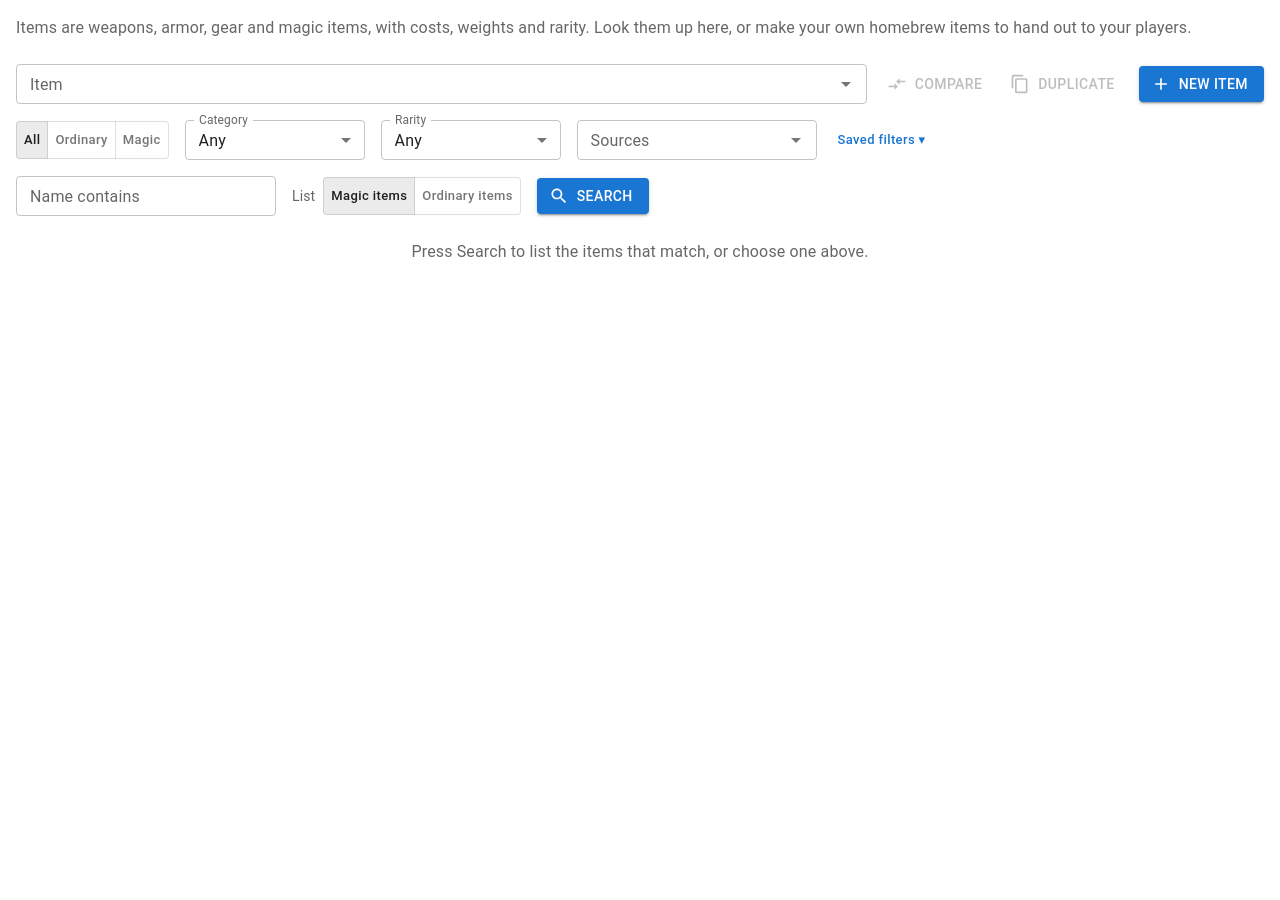
it: comparing items › says when two items have the same description, as the 2014 and 2024 versions often do
Type "rope" into the dropdown labelled "Item" at [425, 84], box [22, 70, 828, 98]
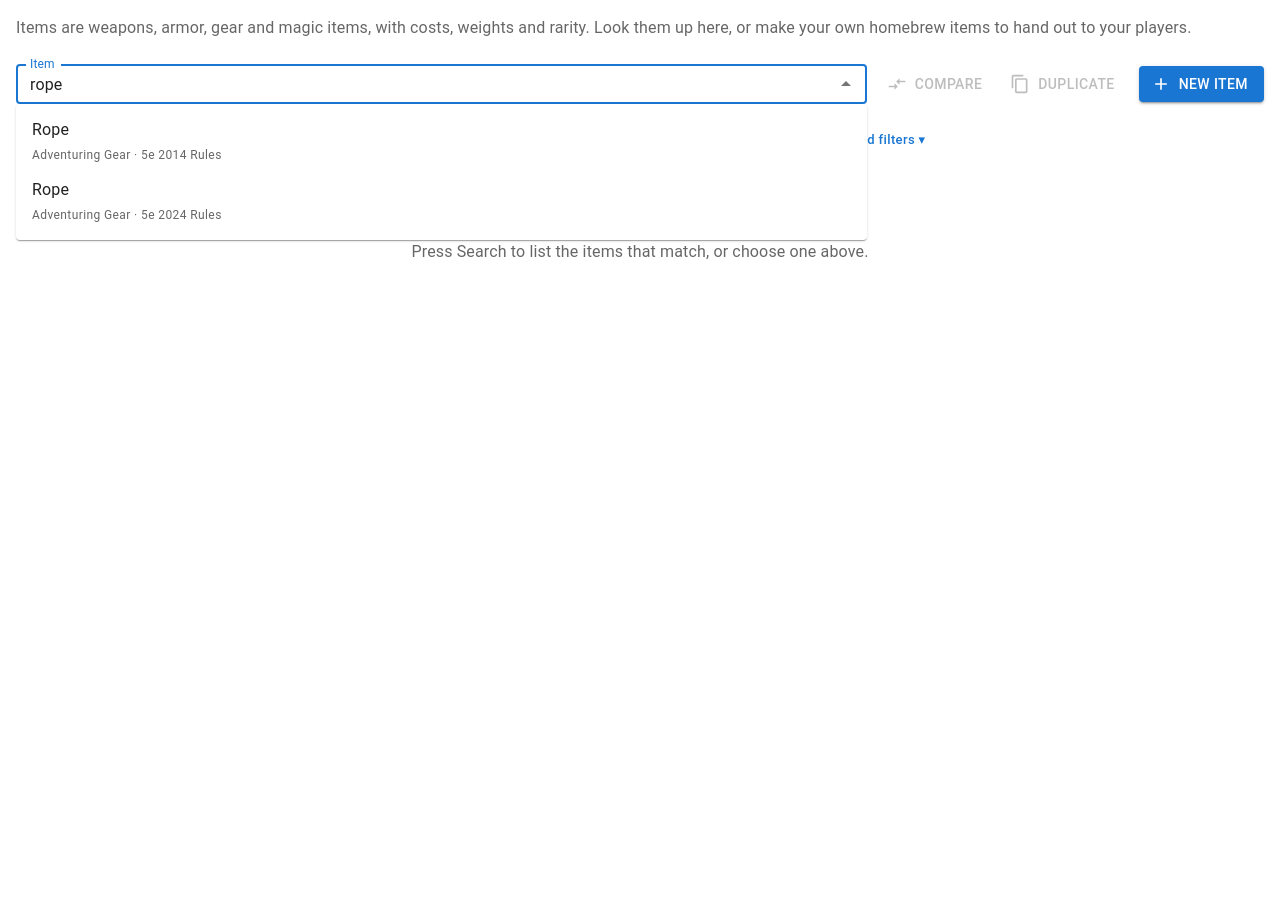
Click the option "Rope Adventuring Gear · 5e 2014 Rules" at [51, 130], box [32, 120, 222, 162]
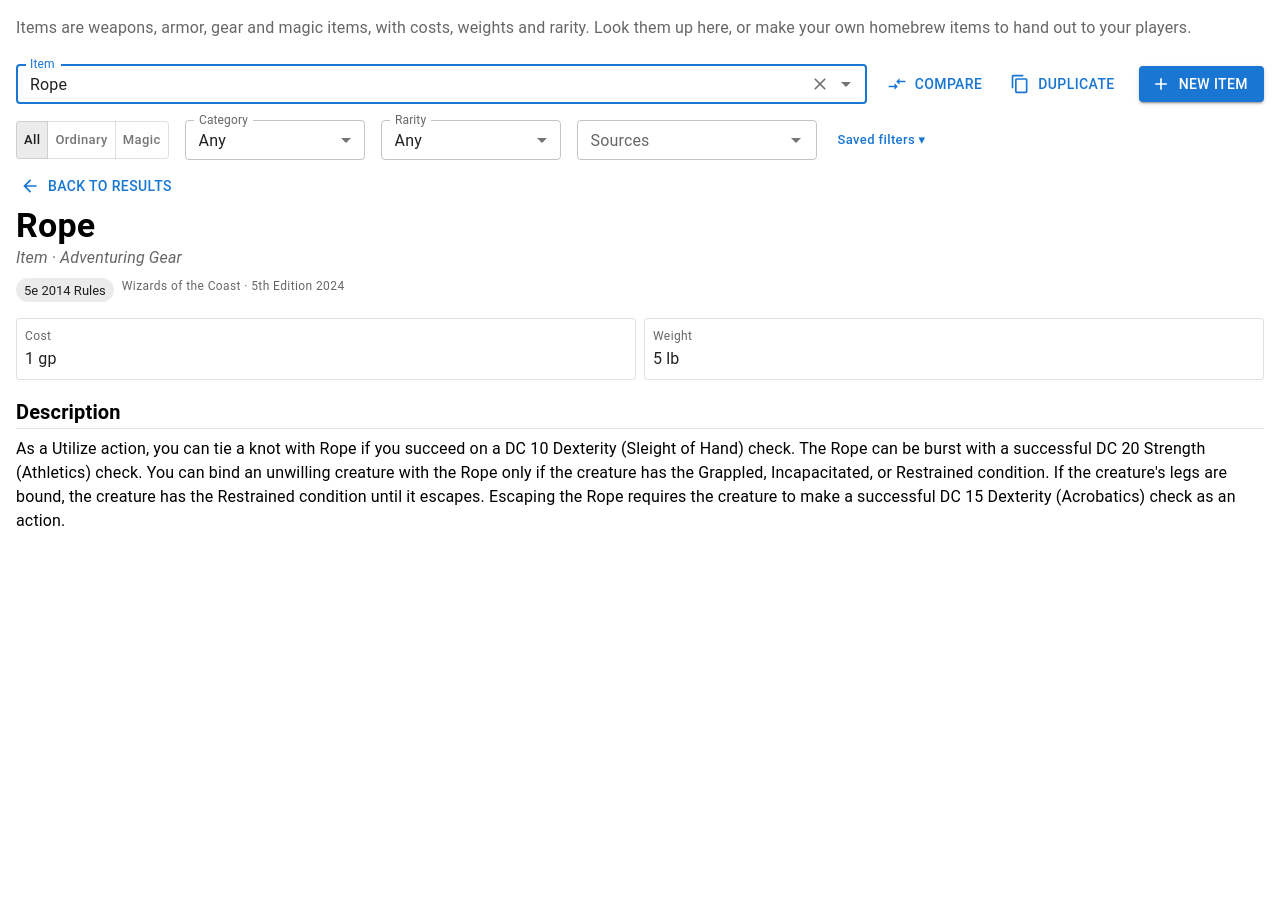
Click the button "Compare" at [936, 84], box [883, 66, 990, 102]
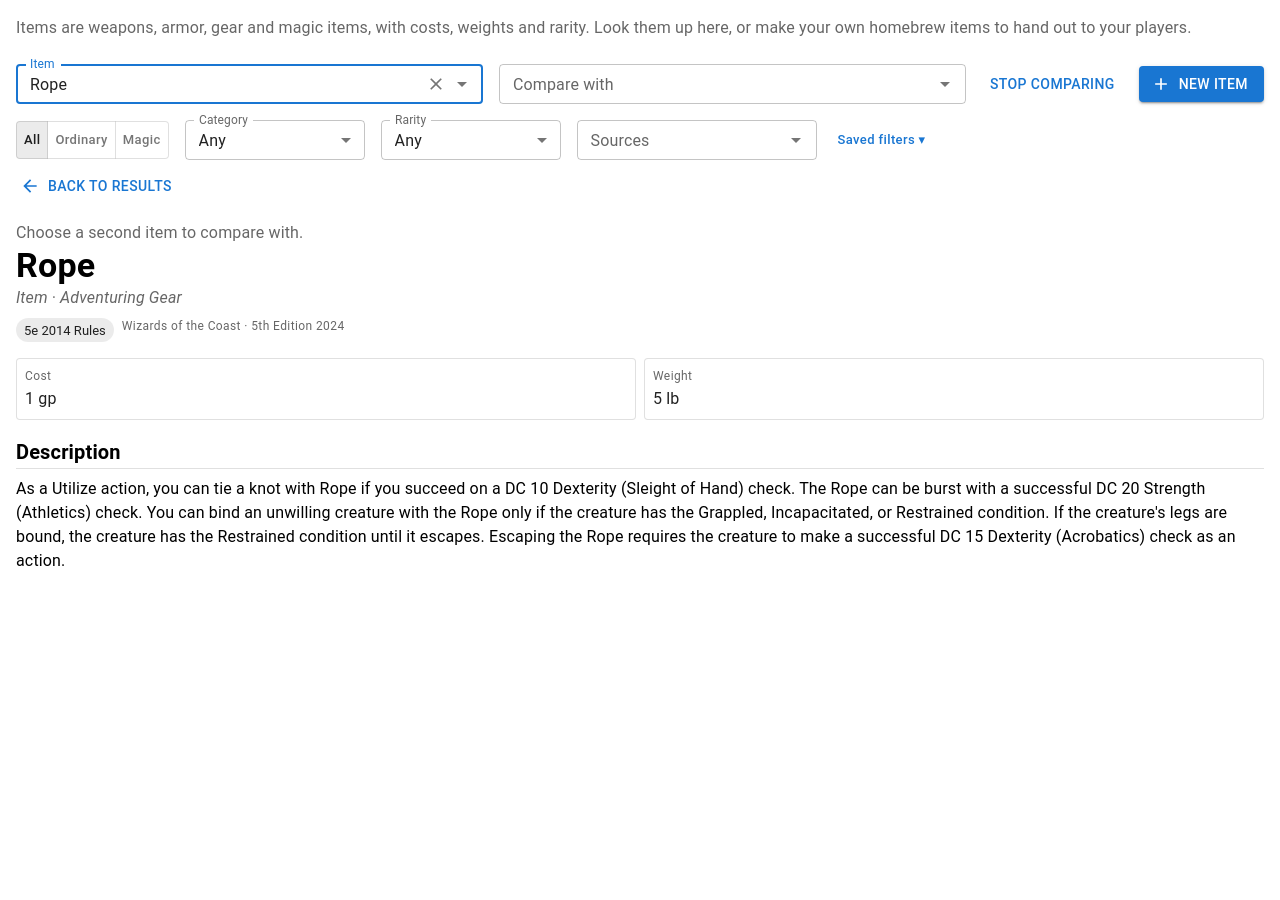
Type "rope" into the dropdown labelled "Compare with" at [716, 84], box [505, 70, 927, 98]
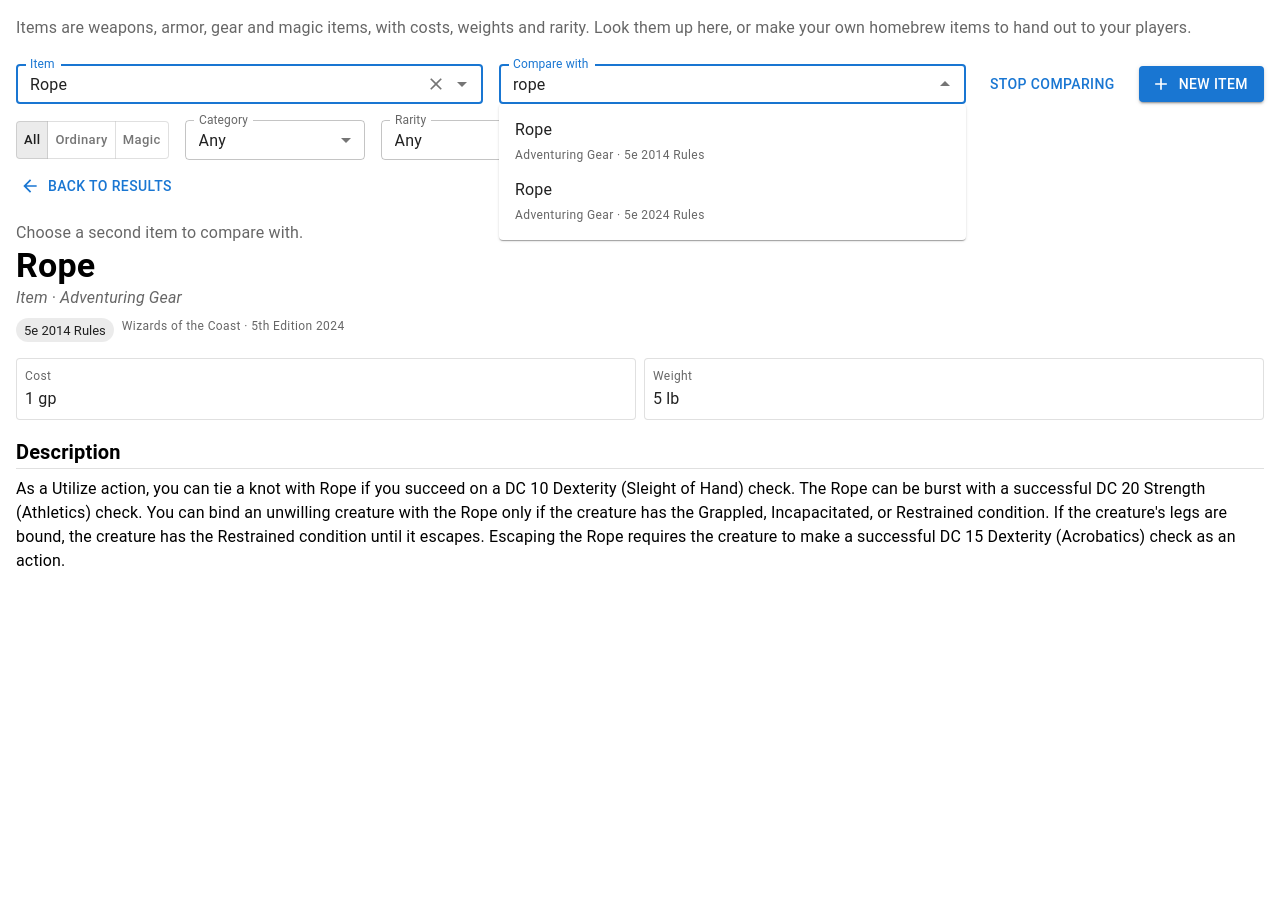
Click the option "Rope Adventuring Gear · 5e 2024 Rules" at [534, 190], box [515, 180, 705, 222]
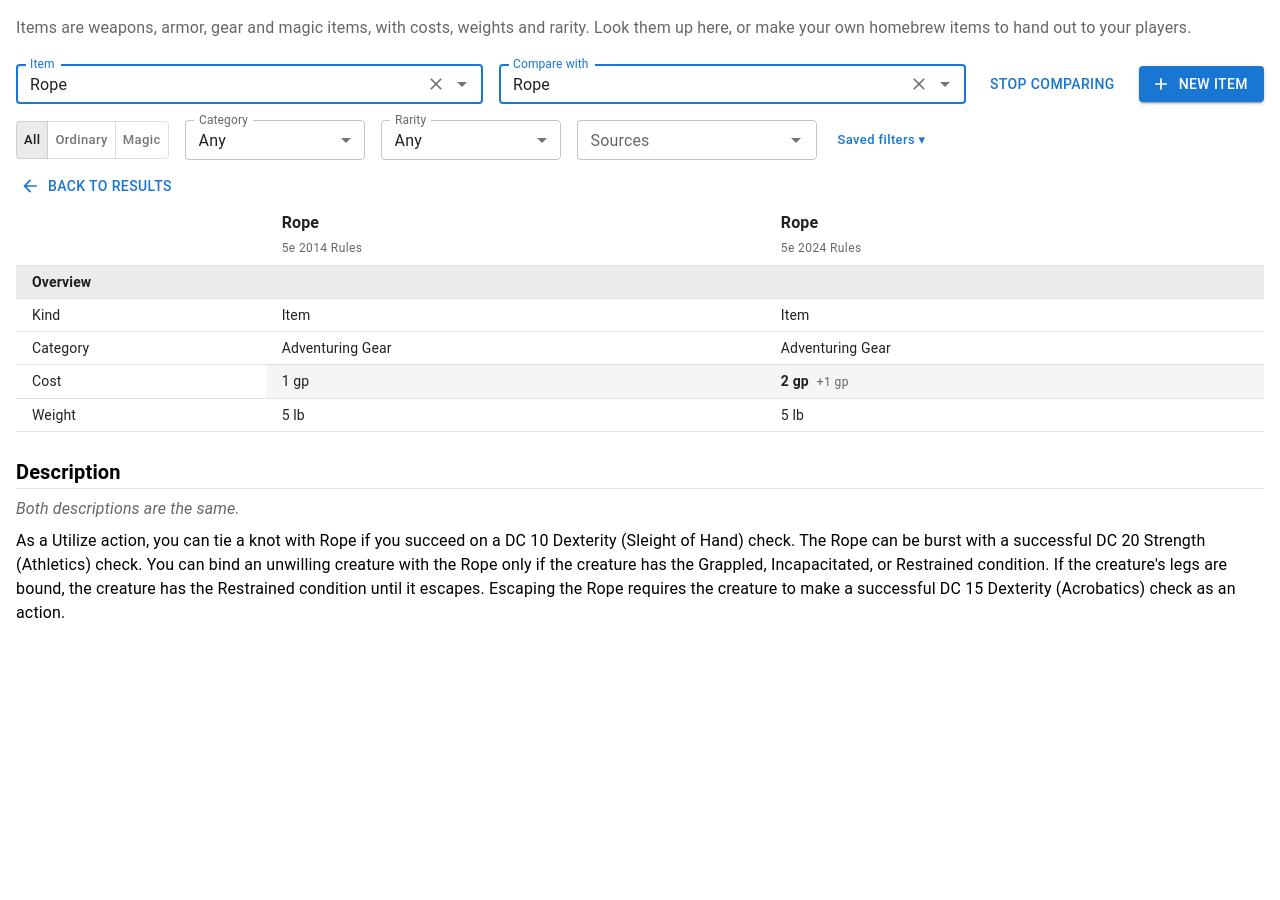
expect the row "Cost 1 gp 2 gp+1 gp" is shown: met, box [16, 364, 1264, 399]
expect the text "Both descriptions are the same." is shown: met, box [16, 500, 240, 518]
expect the text "tie a knot with Rope" is shown once: met, box [16, 530, 1264, 626]
